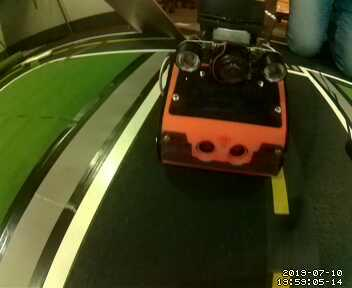pheeno: (157, 2, 287, 177)
